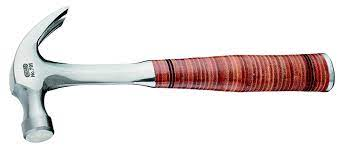hammer: (9, 3, 335, 144)
